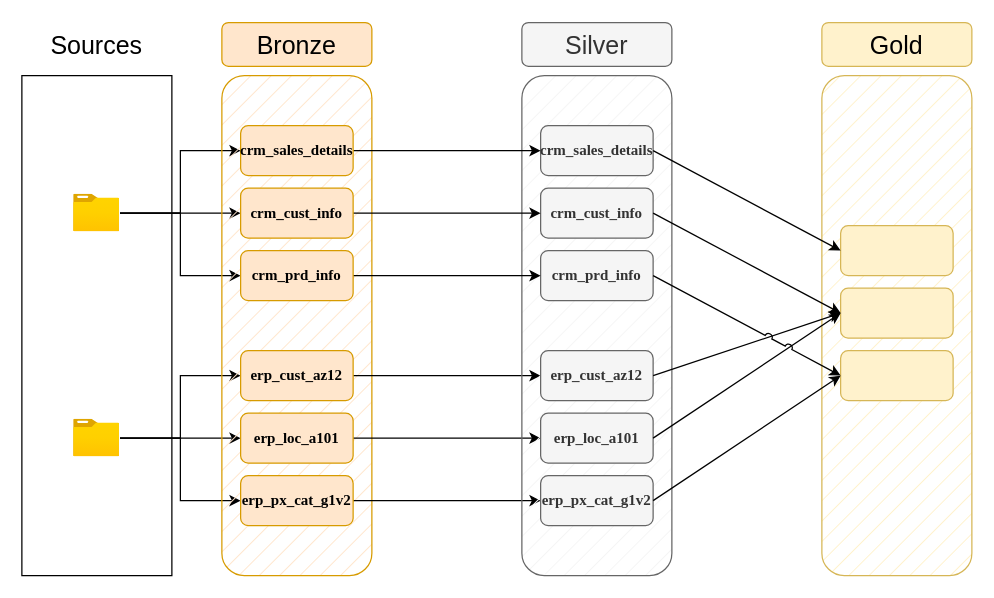
This 994x598 diagram has some shape labels left out. Each missing label, with the box of its shape:
CRM: (73, 194, 119, 231)
dim_customers: (839, 287, 953, 338)
dim_products: (839, 349, 953, 401)
ERP: (73, 419, 119, 456)
fact_sales: (839, 224, 953, 276)
